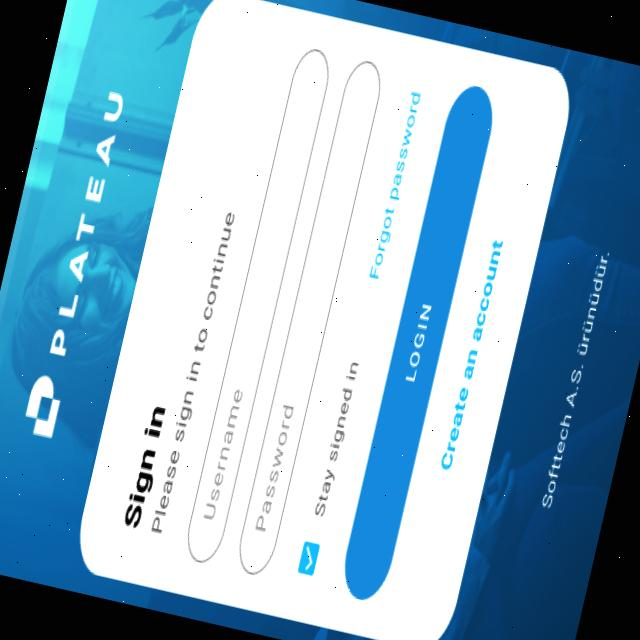QLabel: (145, 207, 240, 537), (538, 247, 612, 513), (435, 235, 505, 473), (364, 86, 426, 285), (309, 357, 362, 520), (119, 402, 168, 531), (399, 295, 435, 388)
VBtn: (334, 80, 500, 605)
VCard: (68, 0, 577, 640)
VCheckbox: (294, 538, 320, 577)
VImg: (0, 0, 640, 640), (16, 83, 132, 442)
VTextField: (231, 56, 386, 580), (179, 44, 334, 567)
